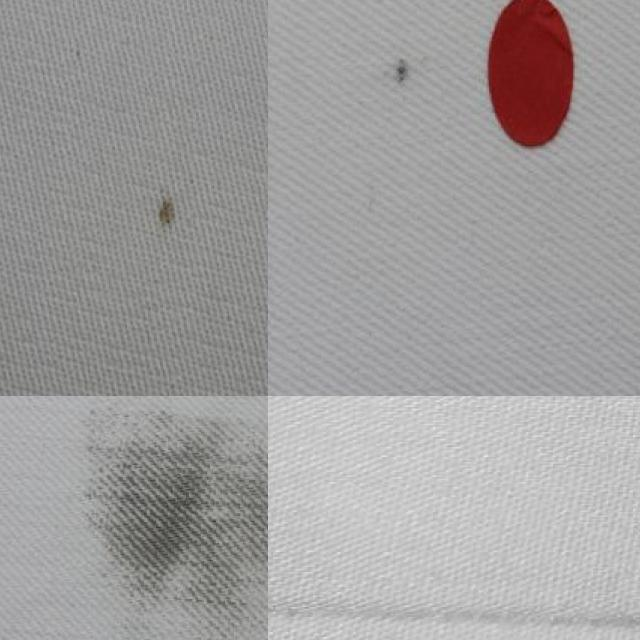Hole: (48, 396, 268, 640), (131, 172, 205, 252), (375, 48, 427, 102)
